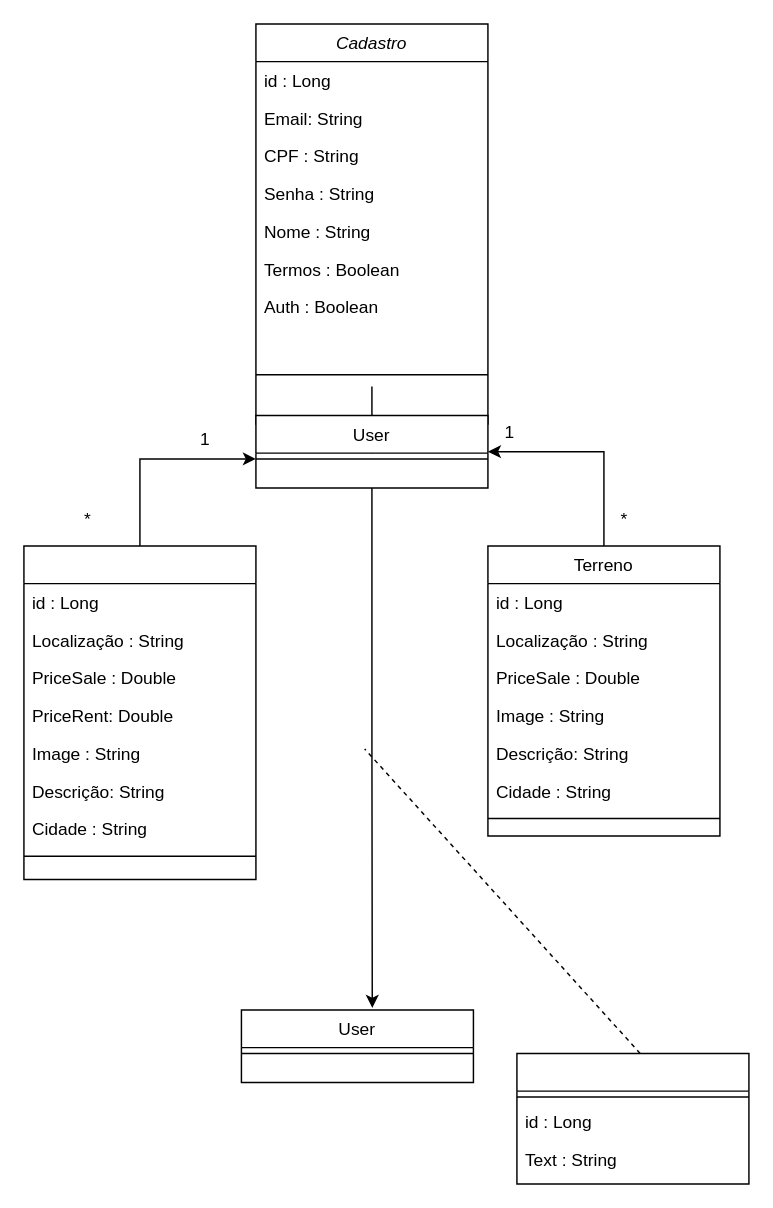
Image size: 773x1208. Some labels were removed from this diagram. Each missing label, with the box of its shape:
Imovel: (22, 544, 256, 879)
Mensagem: (515, 1052, 749, 1184)
